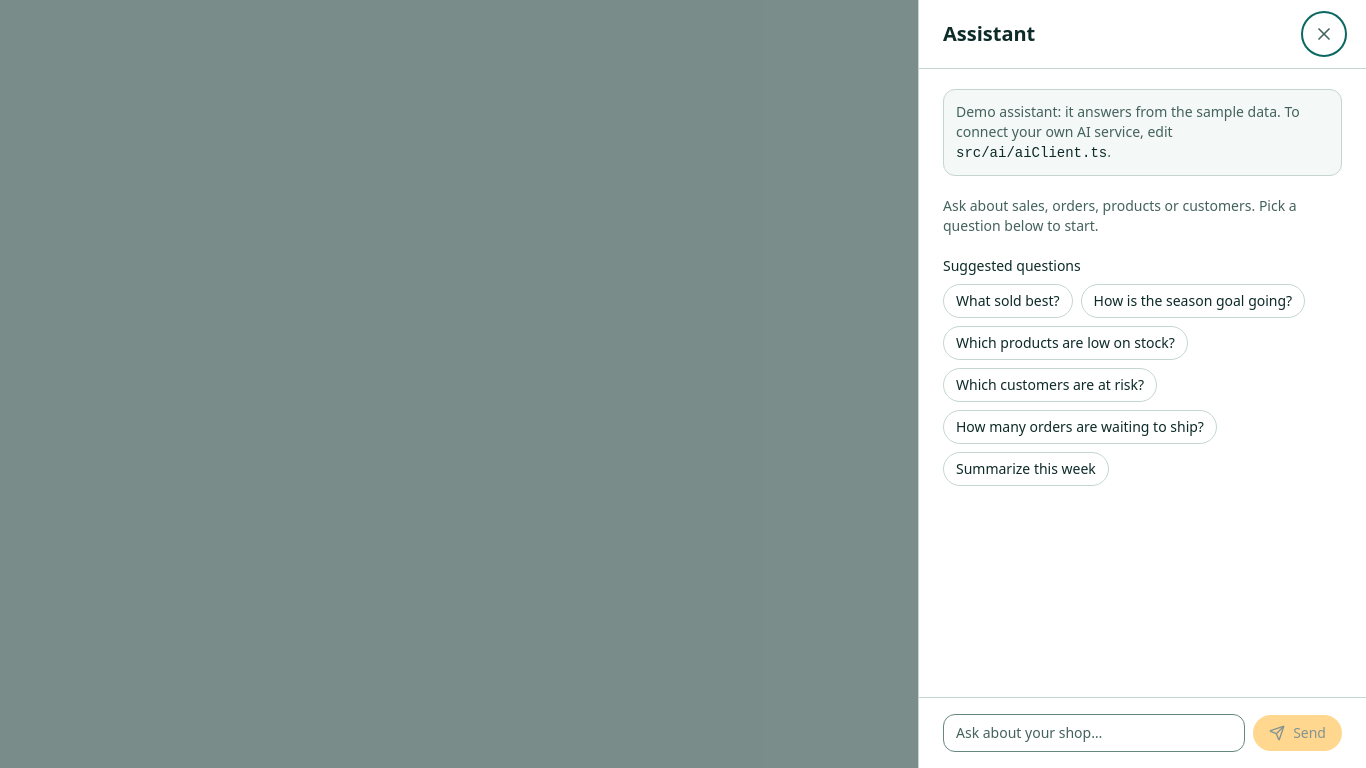
Test: assistant panel › answers a suggested question
Click the button "What sold best?".
click(1008, 301)  # box [943,284,1073,318]
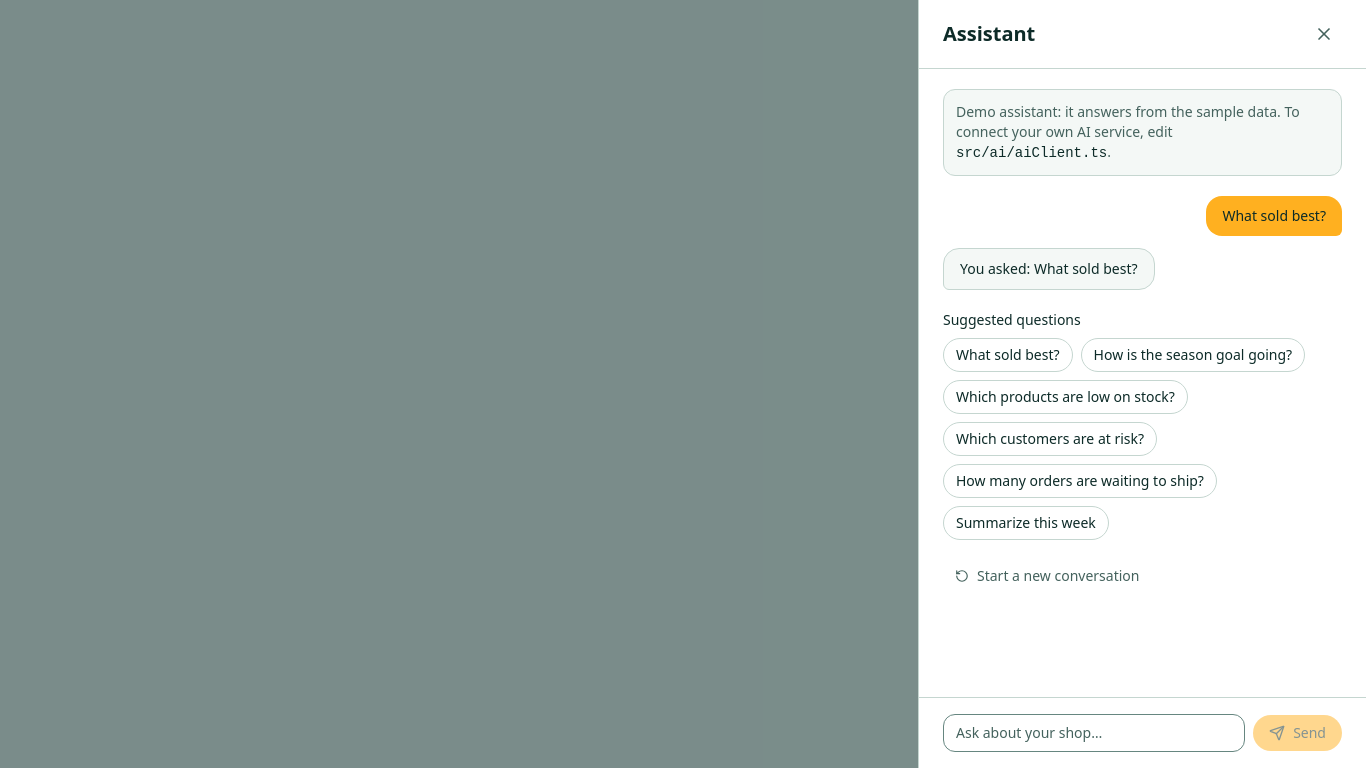
Expected: the text "What sold best?" is shown, [1206,196,1342,236]
